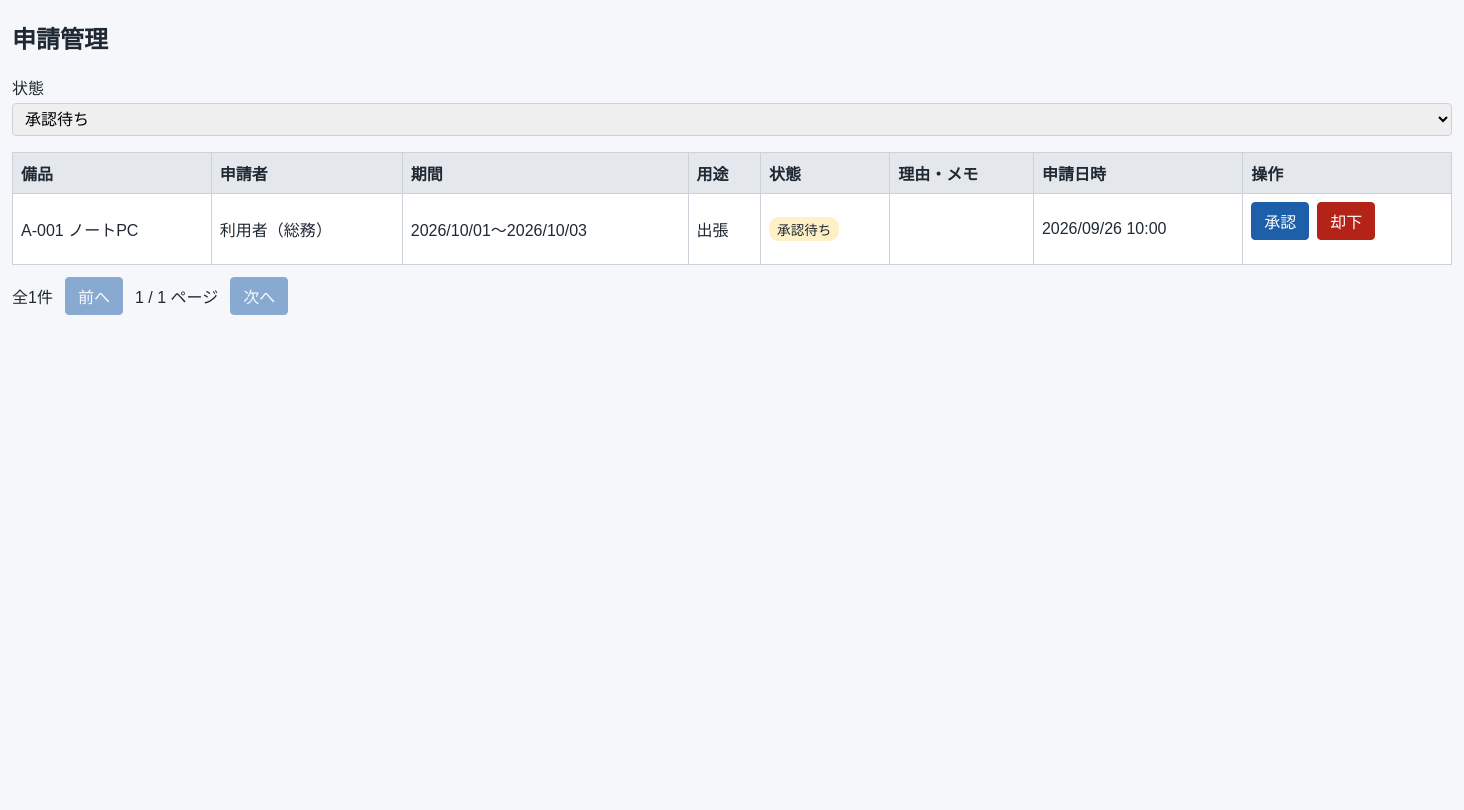
Test: 申請管理画面 › 項番8：却下理由が空のまま「却下する」を押すとエラーを表示し、却下APIを呼ばない
The width and height of the screenshot is (1464, 810).
Click the button "却下" at [1346, 221], box [1317,202,1375,240]
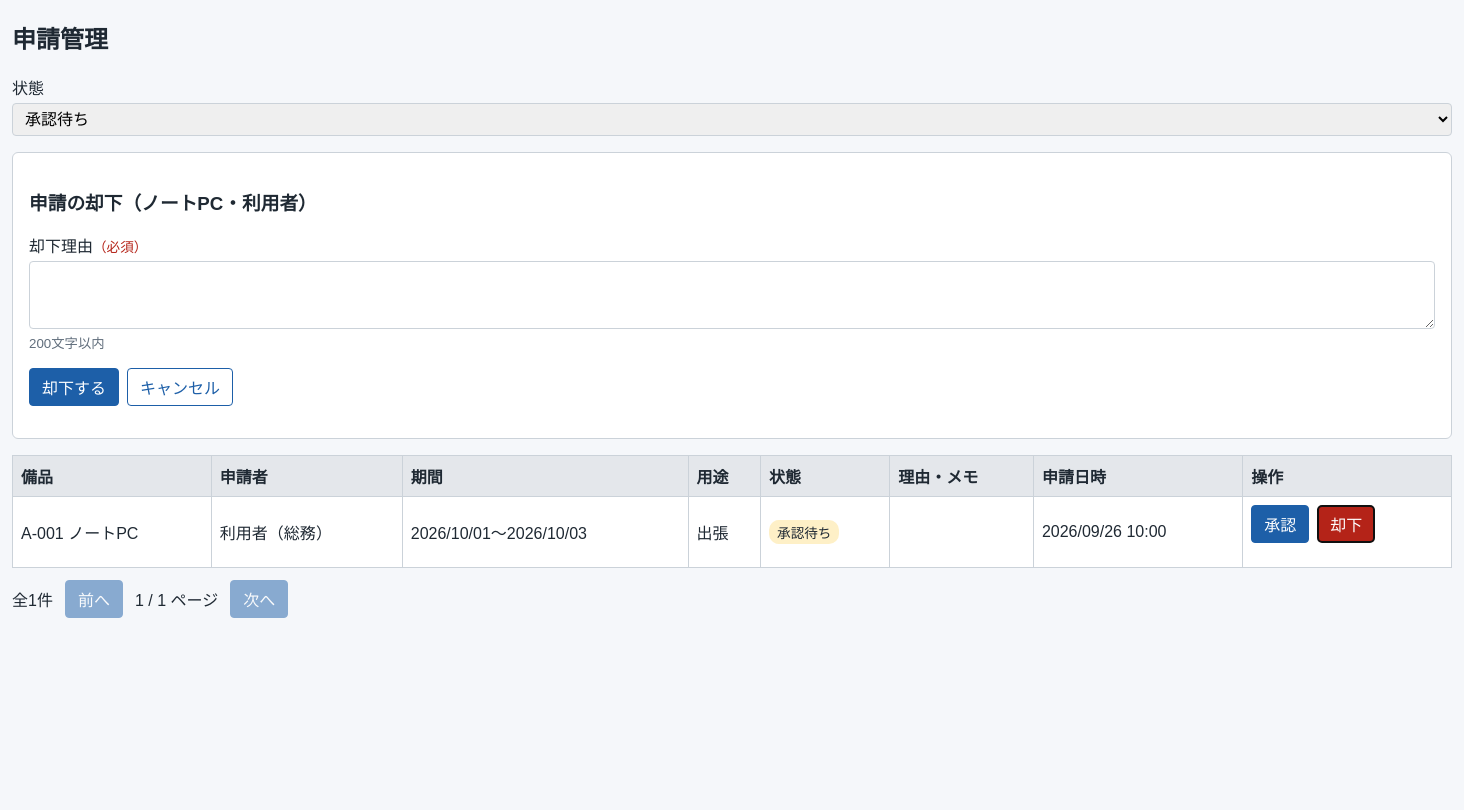
Click the button "却下する" at [74, 387], box [29,368,119,406]
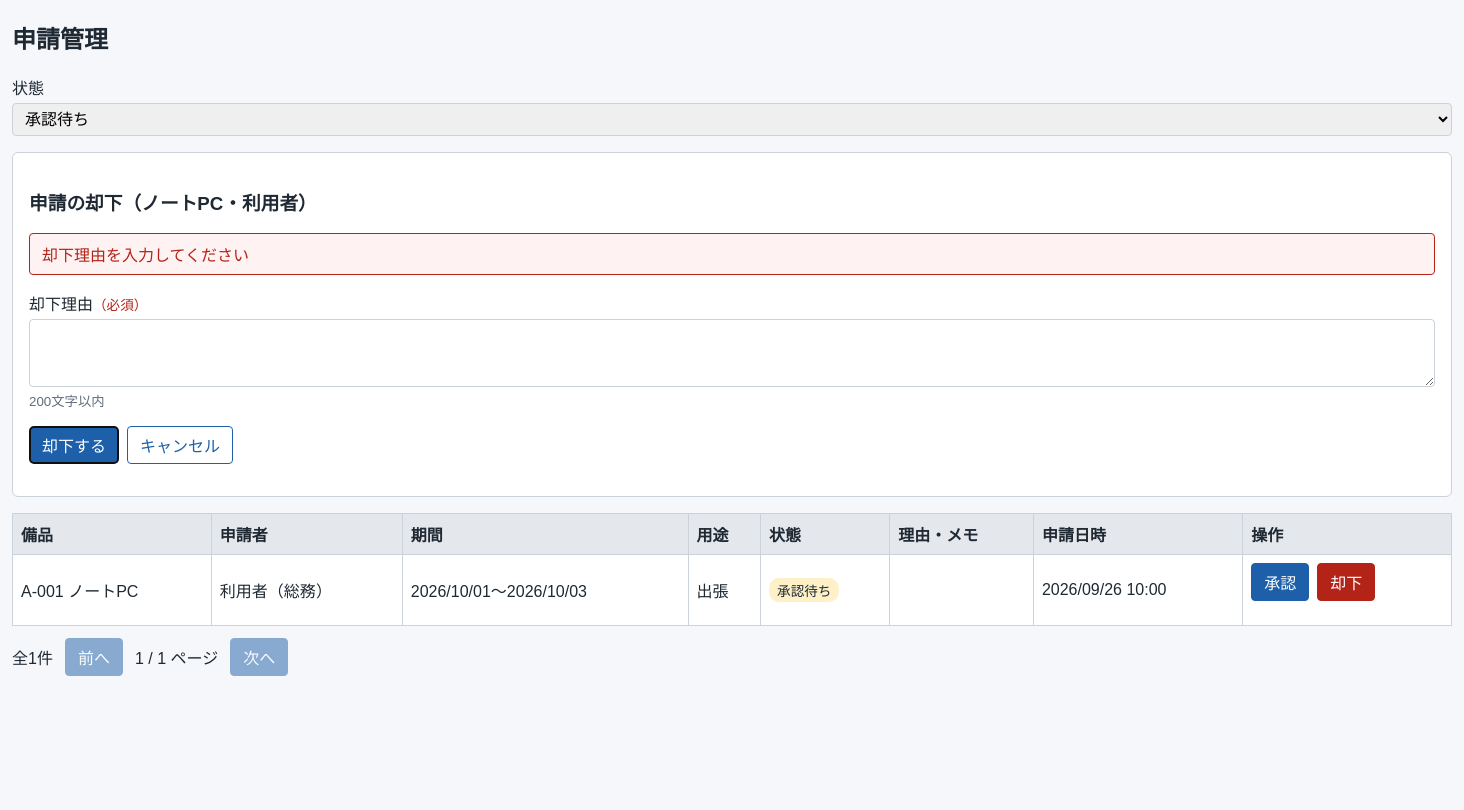
Check: the message reads "却下理由を入力してください", box [42,247,249,264]
